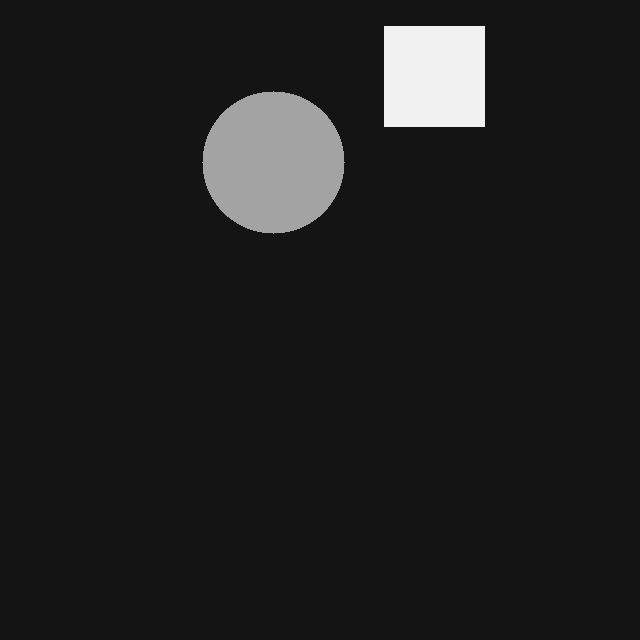circle: (202, 91, 344, 233)
square: (384, 26, 484, 126)
